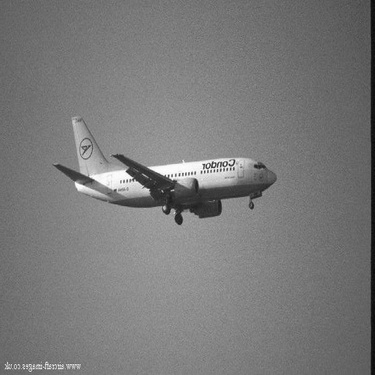airplane: (45, 113, 281, 232)
